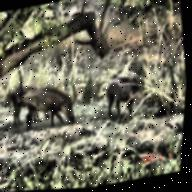boar: (20, 79, 79, 137), (101, 72, 159, 125)
